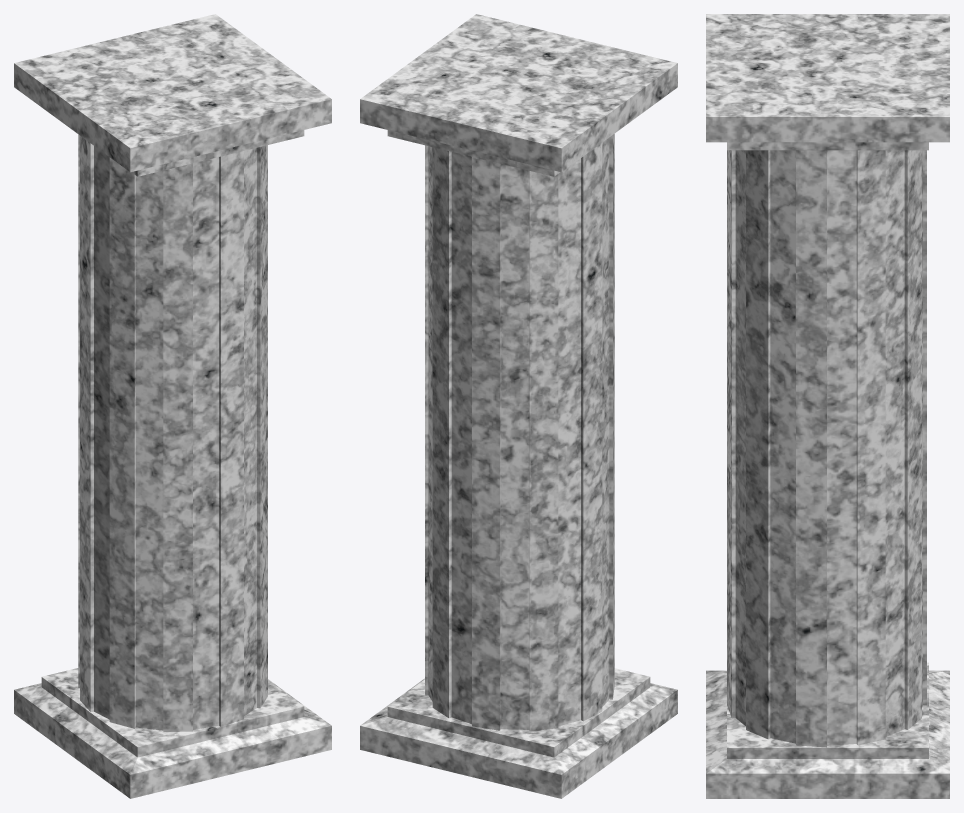
The model's file is PillarMarble.fbx.
3 views of the same model, side by side, from view 1: azimuth 30°, elevation 25°; view 2: azimuth 150°, elevation 25°; view 3: azimuth 270°, elevation 25° (orthographic). The views are drawn at different scales.
Parts seen in each view (by area): view 1: pCube1; view 2: pCube1; view 3: pCube1.
Boxes of the visible parts, x1,y1,x2,y2 form: pCube1: [14, 14, 331, 798]; pCube1: [360, 14, 677, 798]; pCube1: [706, 14, 949, 798].
Bounding box in the file's own units: 4 × 12.34 × 4.
1 material, 1 textured.
